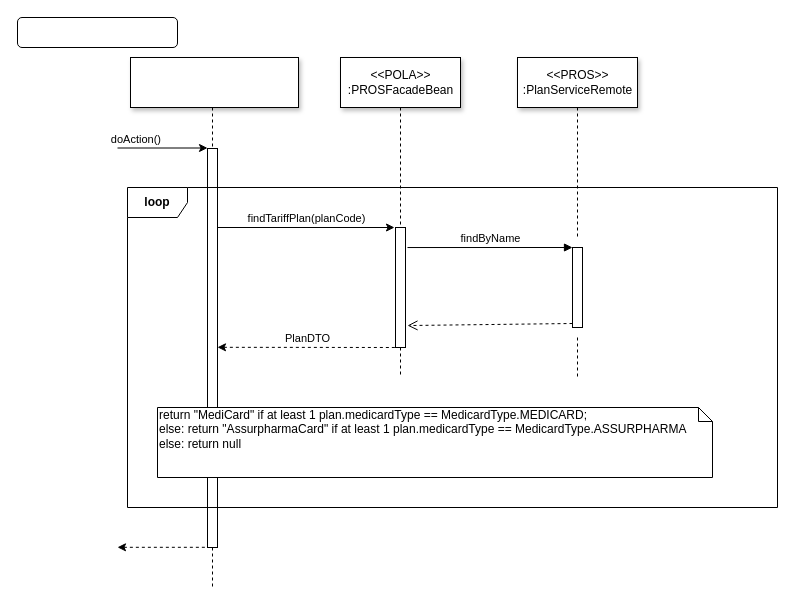
Image size: 795x606. Some labels were removed from this diagram. Here are the shapes that lost their labels. From the top down, the centre of each, then its label:
point (97, 32): sd Determine Card Type of Selected Card
point (215, 83): <<POLA>> :DetermineCardTypeAction
